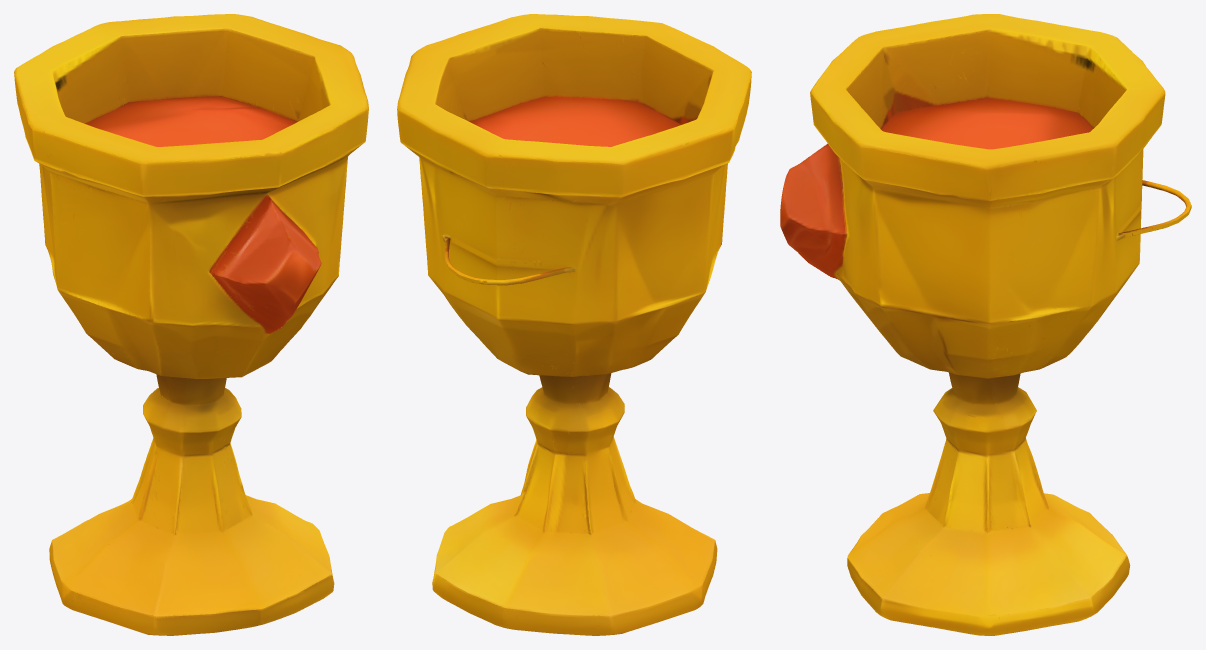
File: base_basic_shaded.fbx
The picture shows the model from 3 angles, left to right: view 1: azimuth 30°, elevation 25°; view 2: azimuth 150°, elevation 25°; view 3: azimuth 270°, elevation 25°; orthographic projection.
Visible parts, largest first — view 1: model; view 2: model; view 3: model.
Boxes of the visible parts, x1,y1,x2,y2 form: model: (14,14,368,635); model: (397,14,751,635); model: (780,14,1191,635).
Size of the model in its own units: 129 by 190 by 145.
